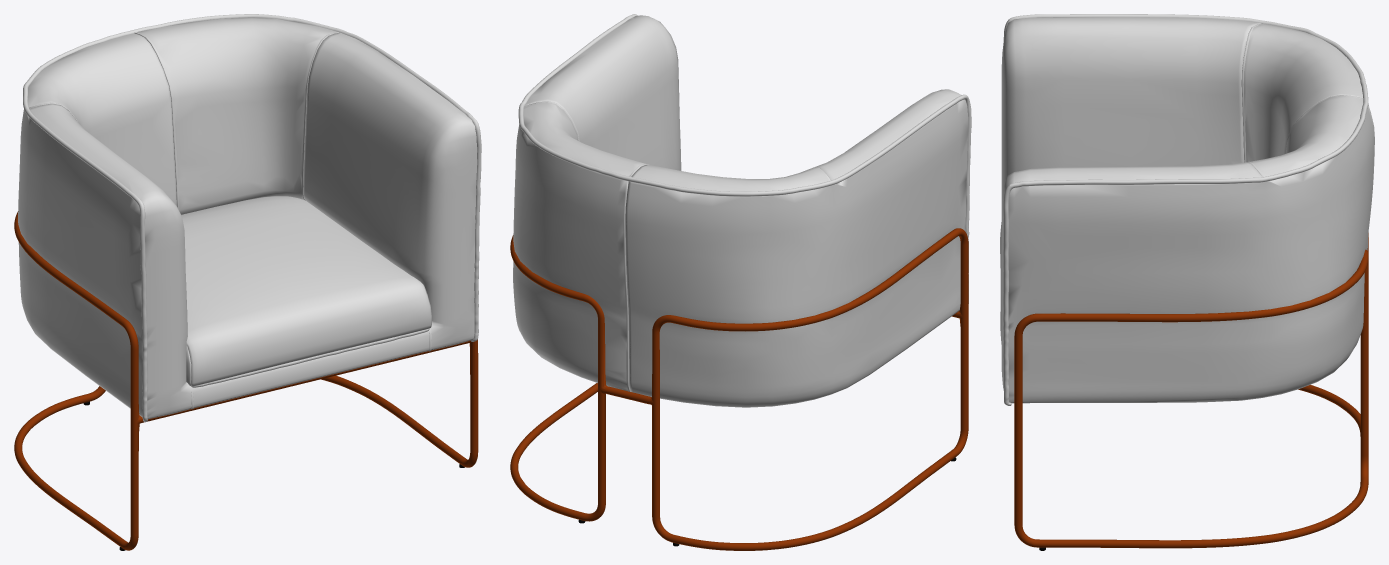
The model's file is poltrona-unique.glb.
3 renders of one model, left to right at view 1: azimuth 30°, elevation 25°; view 2: azimuth 150°, elevation 25°; view 3: azimuth 270°, elevation 25°, orthographic. The views are drawn at different scales.
Parts seen in each view (by area): view 1: Geom3D (×3); view 2: Geom3D (×3); view 3: Geom3D (×3).
Part boxes in pixels (x1,y1,x2,y2): Geom3D (×3): (14, 14, 481, 550); Geom3D (×3): (510, 14, 971, 550); Geom3D (×3): (1000, 14, 1374, 548).
Size of the model in its own units: 0.73 by 0.7284 by 0.6678.
